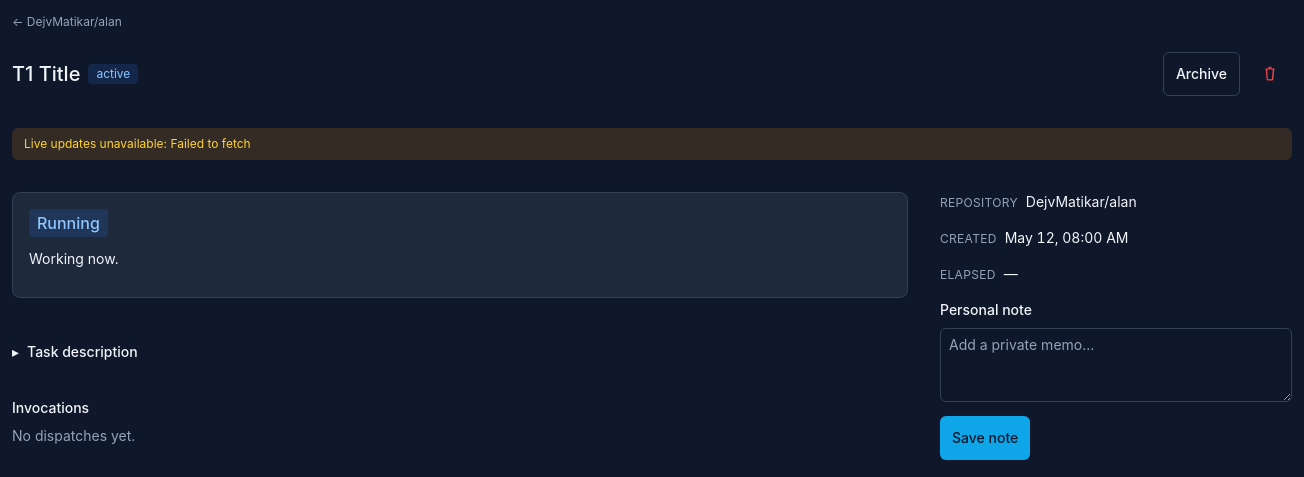
Scenario: Workspace detail › archives the workspace when the Archive button is clicked and refetches
Click the button "Archive" at (1201, 74), box [1163,52,1240,96]
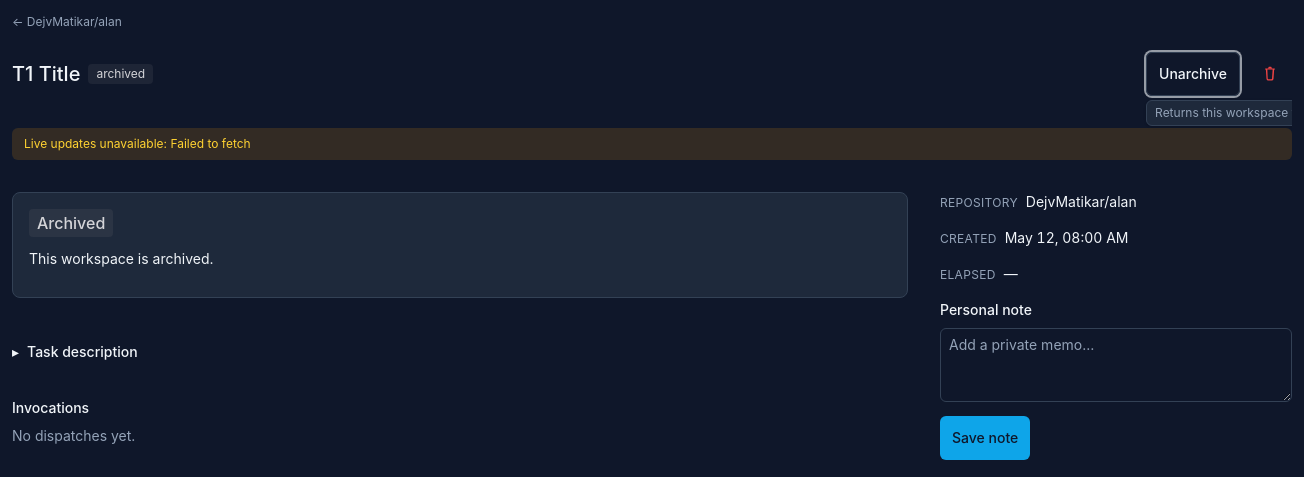
Expected: the text "archived" is shown, [88,64,153,84]
